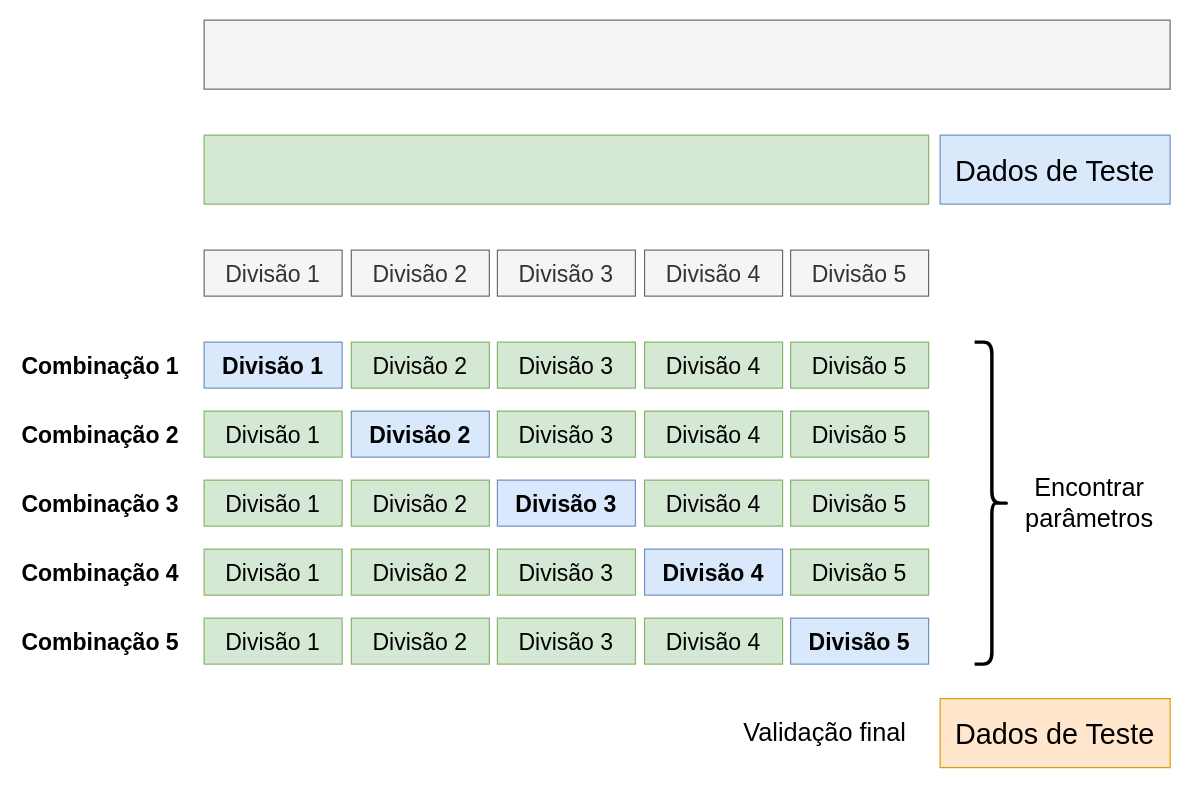
Some shapes in this 1190 by 788 pixel diagram are drawn without their labels. Each missing label, with the centre of its shape:
"Dados de Treino" goes at pixel 566 169.
"Todos os Dados" goes at pixel 686 54.
